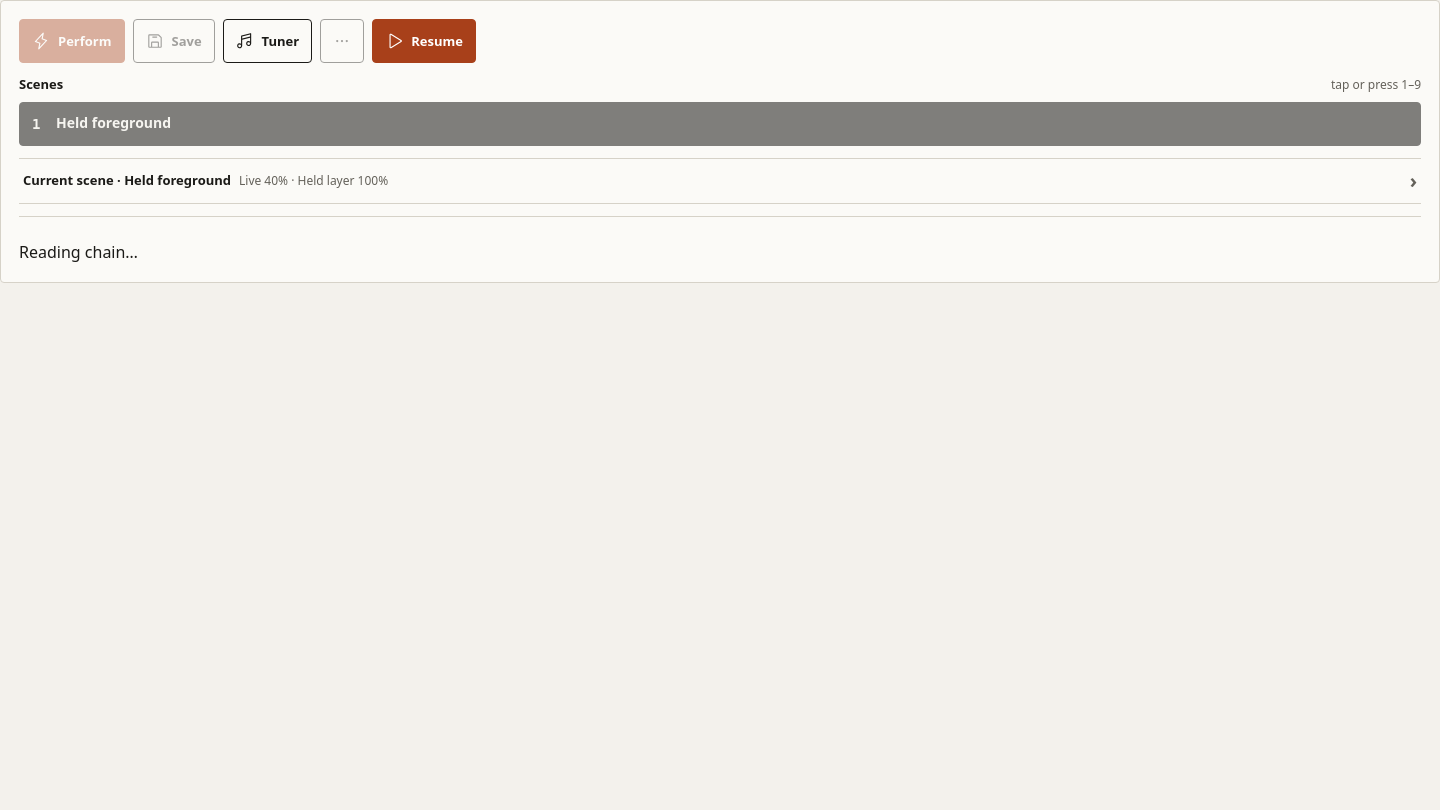
Scenario: explains the sounding scene as a branch mix rather than another chain
The image size is (1440, 810).
Expected: the text "Held foreground" is shown 2 times, [56, 113, 171, 132]; [124, 171, 231, 189]
Expected: the text "Live 40% · Held layer 100%" is shown, [239, 172, 388, 190]
Click the text "Current scene ·" at [127, 181], box [23, 171, 231, 190]
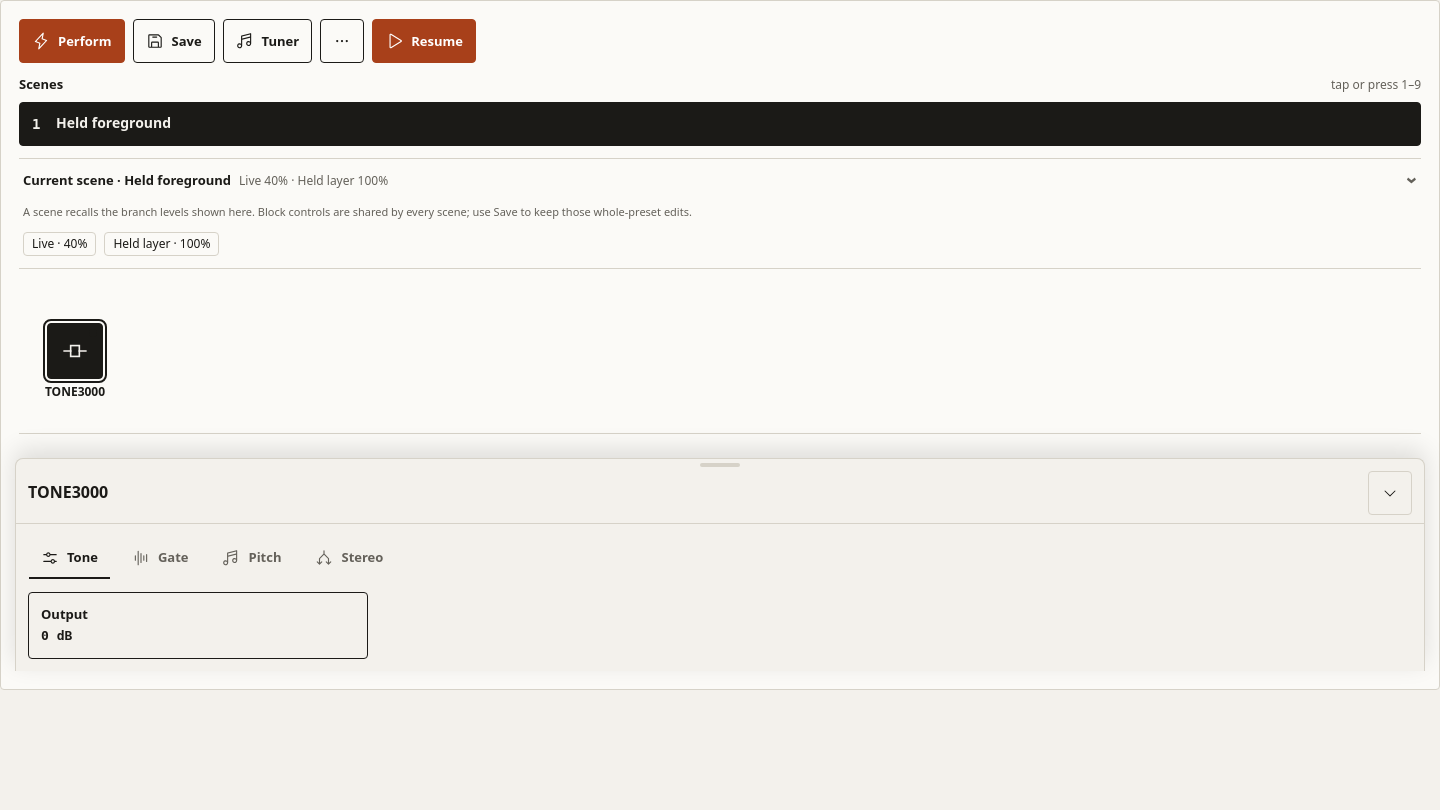
Now the text "Block controls are shared by every scene" is shown, box [258, 204, 692, 219]
Now the text "Live · 40%" is shown, box [23, 232, 96, 256]
Now the text "Held layer · 100%" is shown, box [104, 232, 219, 256]
